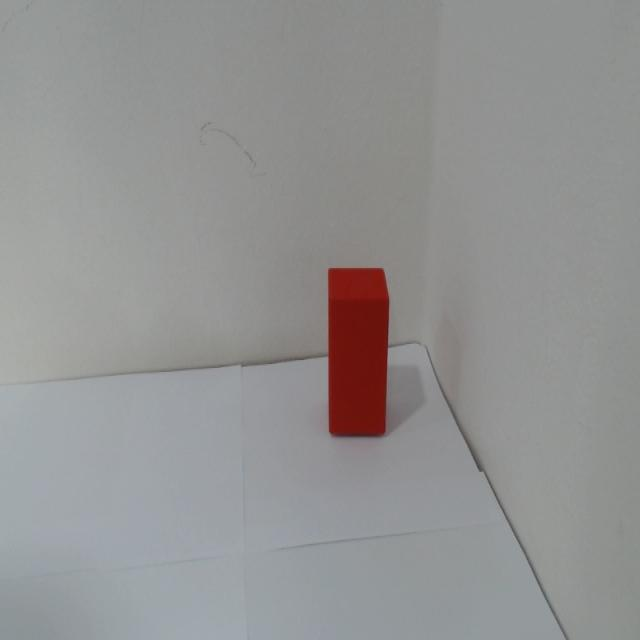cube: (327, 268, 390, 437)
